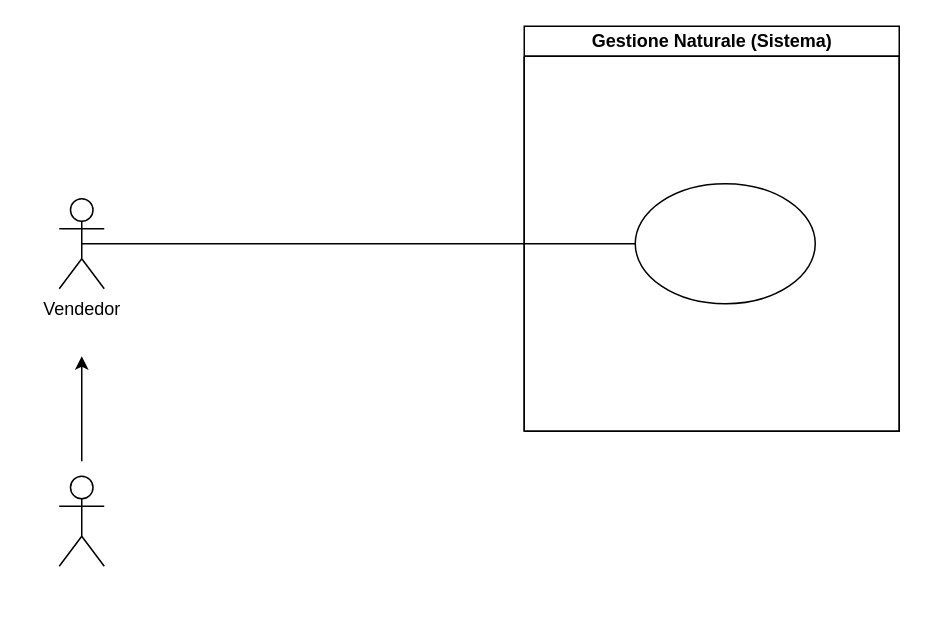
The diagram is 926 pixels wide and 624 high, and some of its shapes have lost their labels. Each missing label, with the centre of its shape:
"Administrador" goes at point 81,520.
"CU-12: Administrar Catálogo General" goes at point 724,243.
